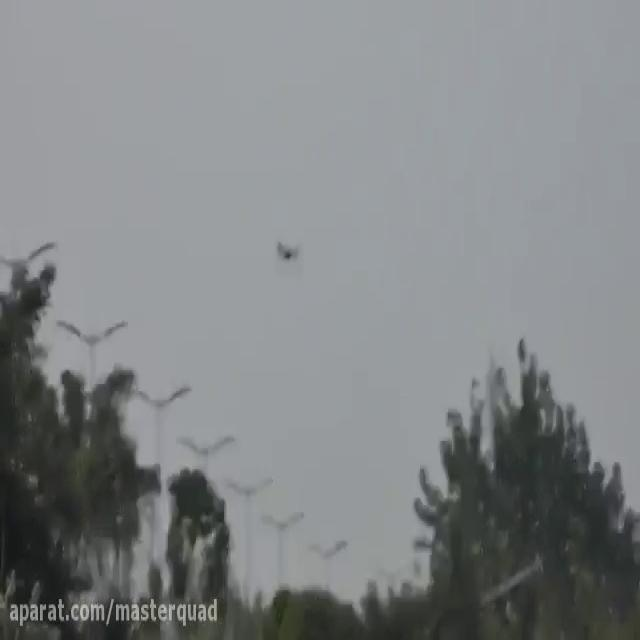drone: (274, 231, 302, 267)
